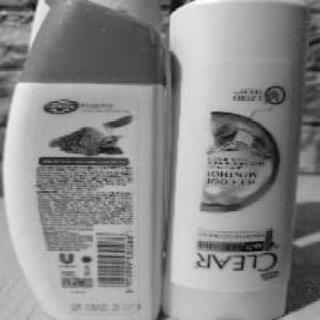objects: (0, 0, 165, 320), (168, 0, 303, 318)
